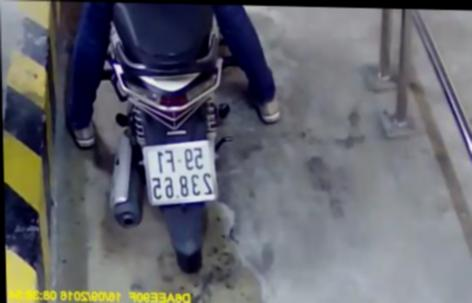License_Plate: (139, 134, 221, 211)
